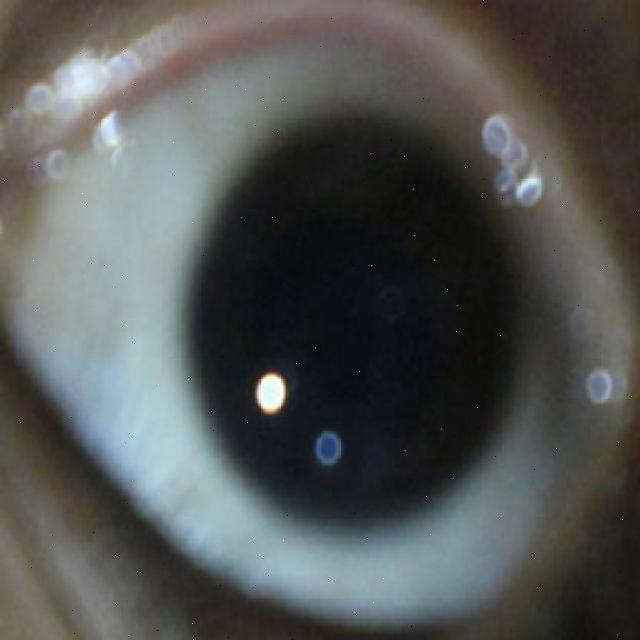Normal: (187, 113, 526, 540)
